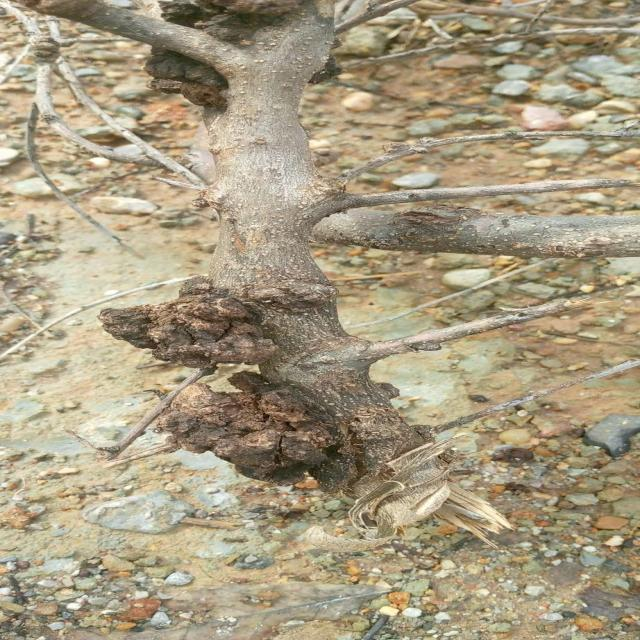Tuberculosis: (157, 372, 357, 492), (98, 284, 276, 369), (160, 0, 311, 44), (144, 47, 228, 111)
